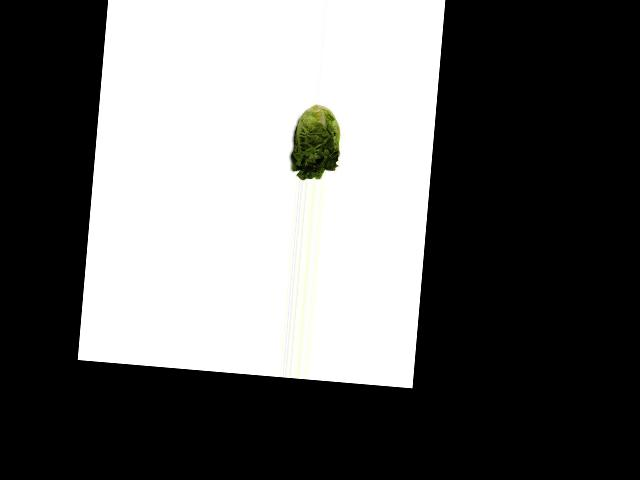lettuce: (286, 102, 347, 181)
